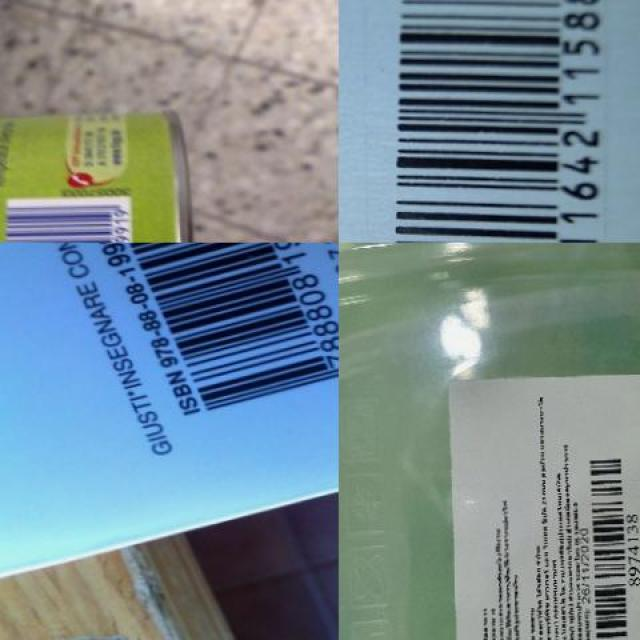Barcode: (338, 0, 640, 242), (77, 243, 339, 437), (584, 448, 640, 640), (1, 197, 136, 243)
